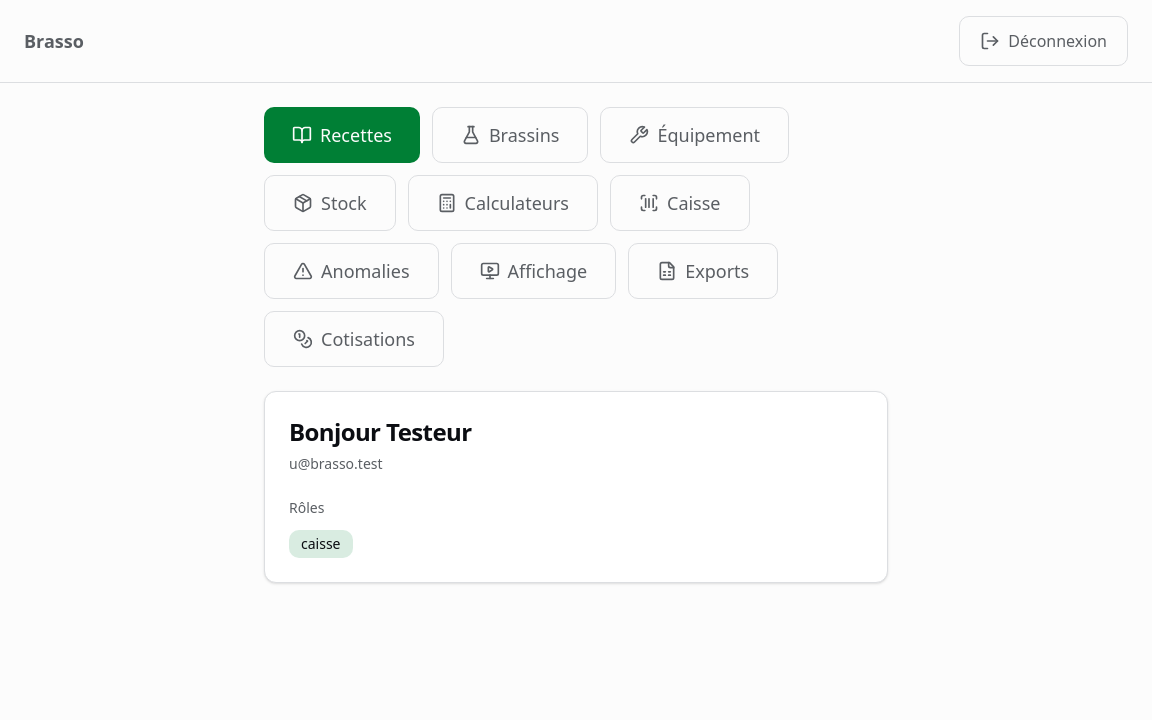
it: hub d'accueil — atteignabilité et masquage RBAC › C. atteignabilité réelle (clic → route cible, pas la redirection * → /) › Caisse (caisse) mène réellement à /cash
Click the link "Caisse": (680, 203) [610,175,750,231]
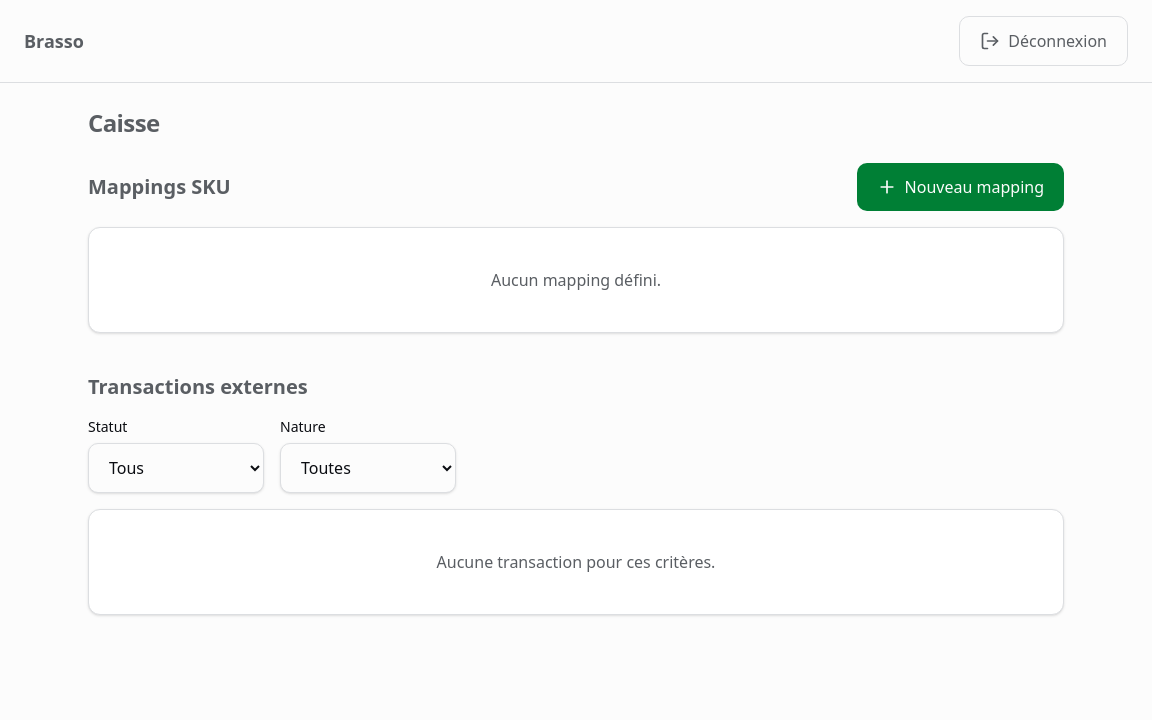
Result: the heading "Caisse" is shown at [88,106,160,139]
Result: the heading "Bonjour" is gone
